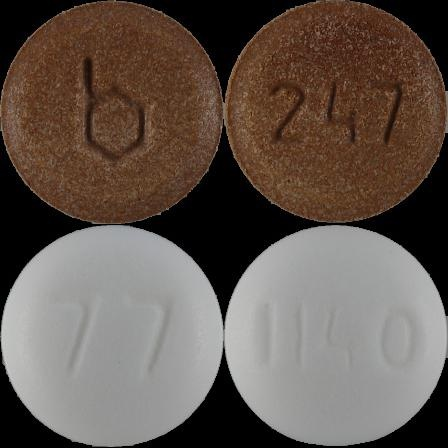0093-5328: (0, 0, 224, 224)
